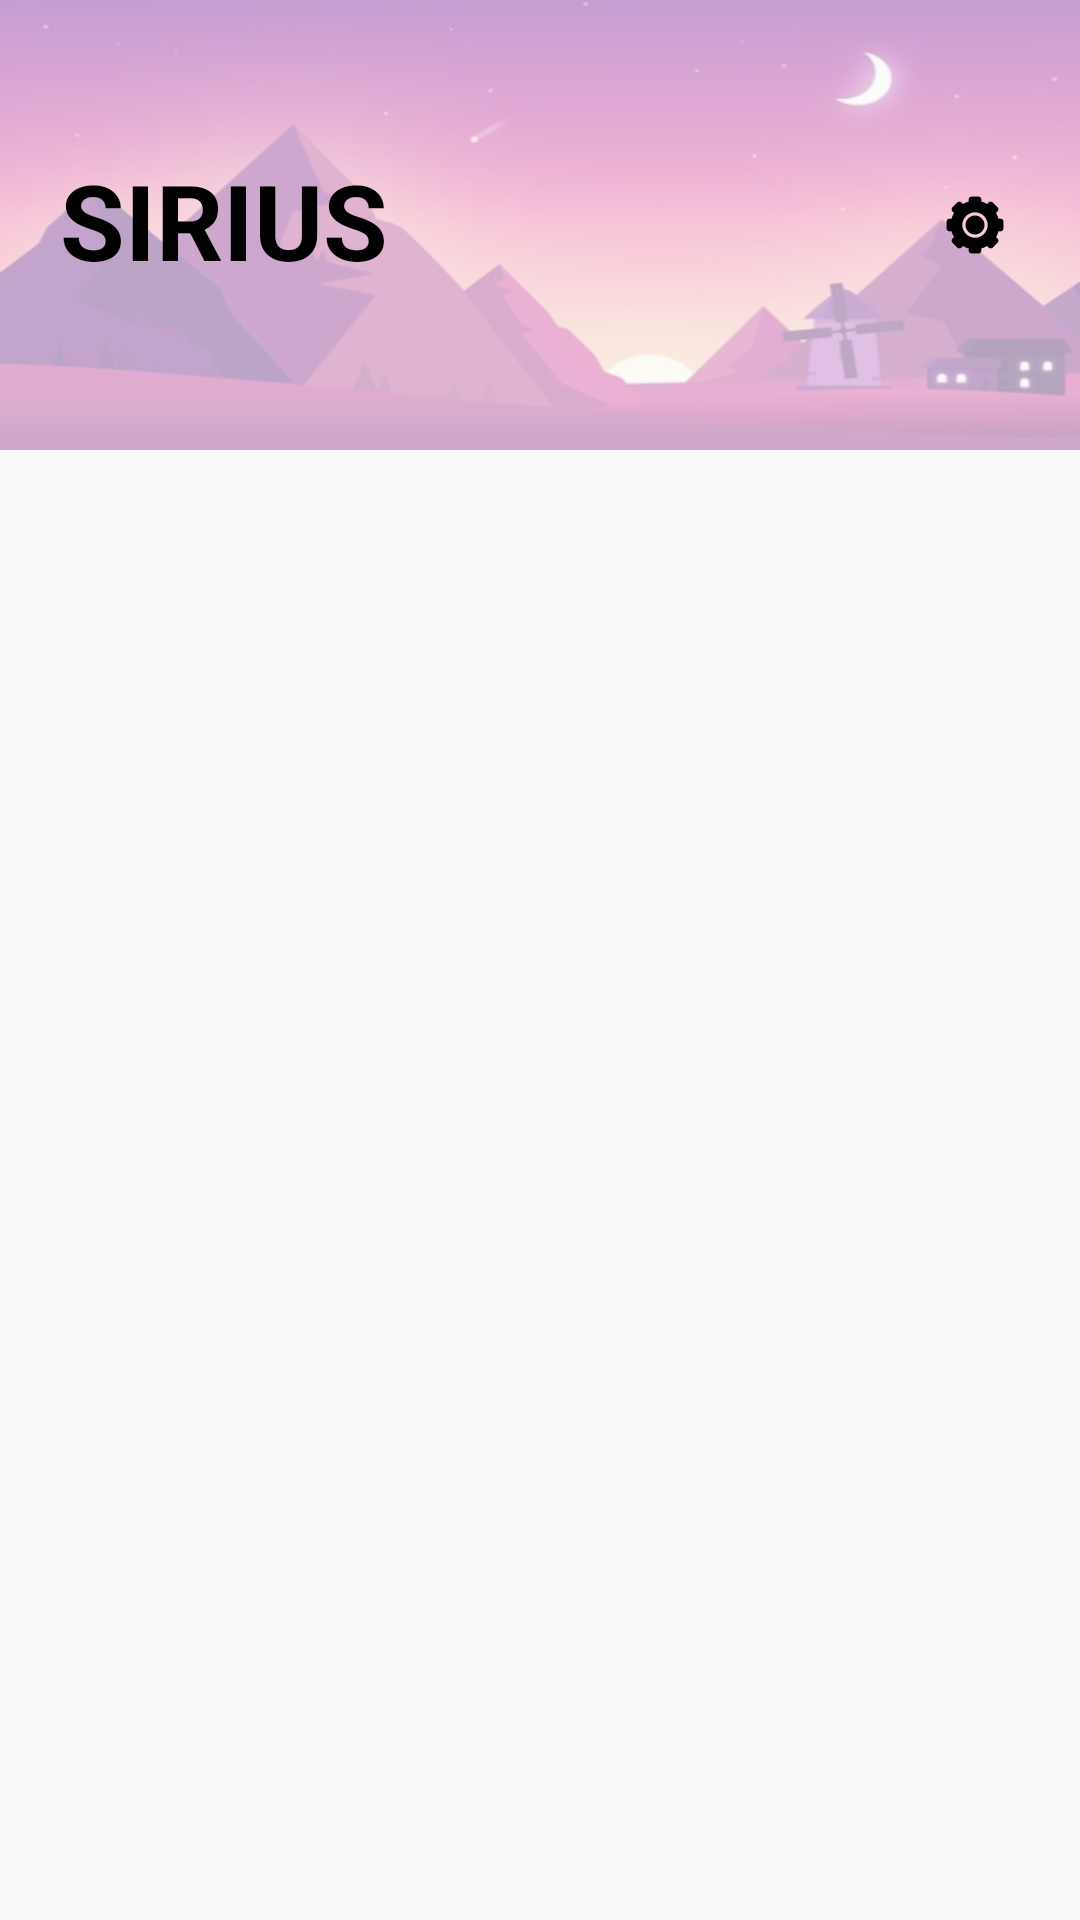

Icon click points for this 1080 x 1920 phone screenshot, format [x,y]:
settings: [975,233]
